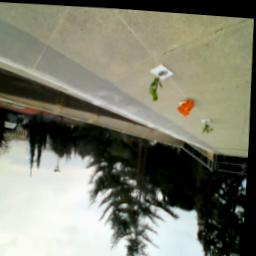herb: (149, 72, 165, 102), (203, 118, 216, 134)
wild: (178, 97, 197, 116)
